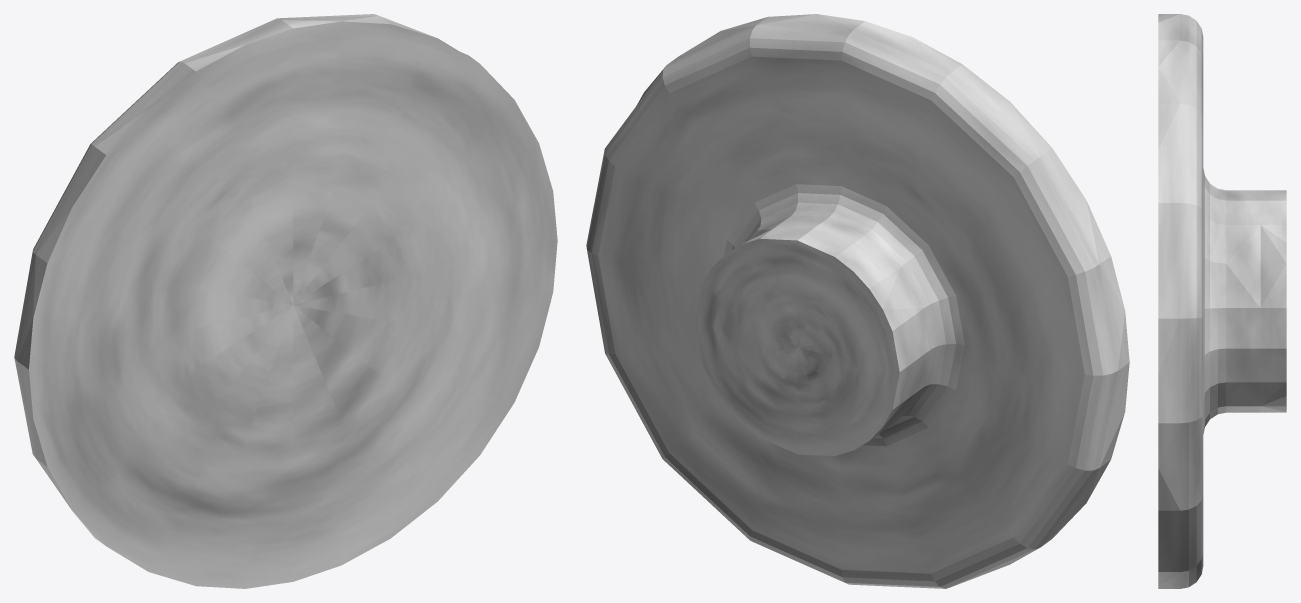
Rendered from basebombillo.dae.
The picture shows the model from 3 angles, left to right: view 1: azimuth 30°, elevation 25°; view 2: azimuth 150°, elevation 25°; view 3: azimuth 270°, elevation 25°; orthographic projection. The views are drawn at different scales.
Visible parts, largest first — view 1: node; view 2: node; view 3: node.
Part boxes in pixels (x1=…): node: x1=14, y1=14, x2=557, y2=588; node: x1=586, y1=14, x2=1129, y2=588; node: x1=1158, y1=14, x2=1286, y2=588.
Size of the model in its own units: 160 by 160 by 35.59.
1 material, 1 textured.
